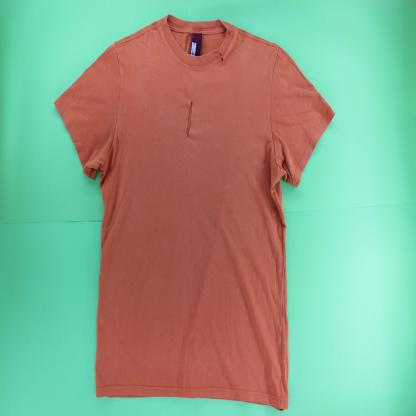hole: (185, 97, 195, 140), (214, 46, 226, 66)
